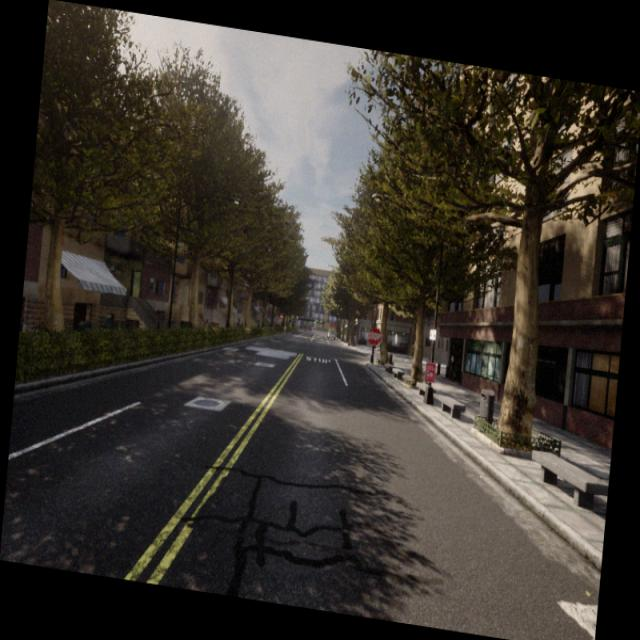stop sign: (366, 325, 382, 347)
